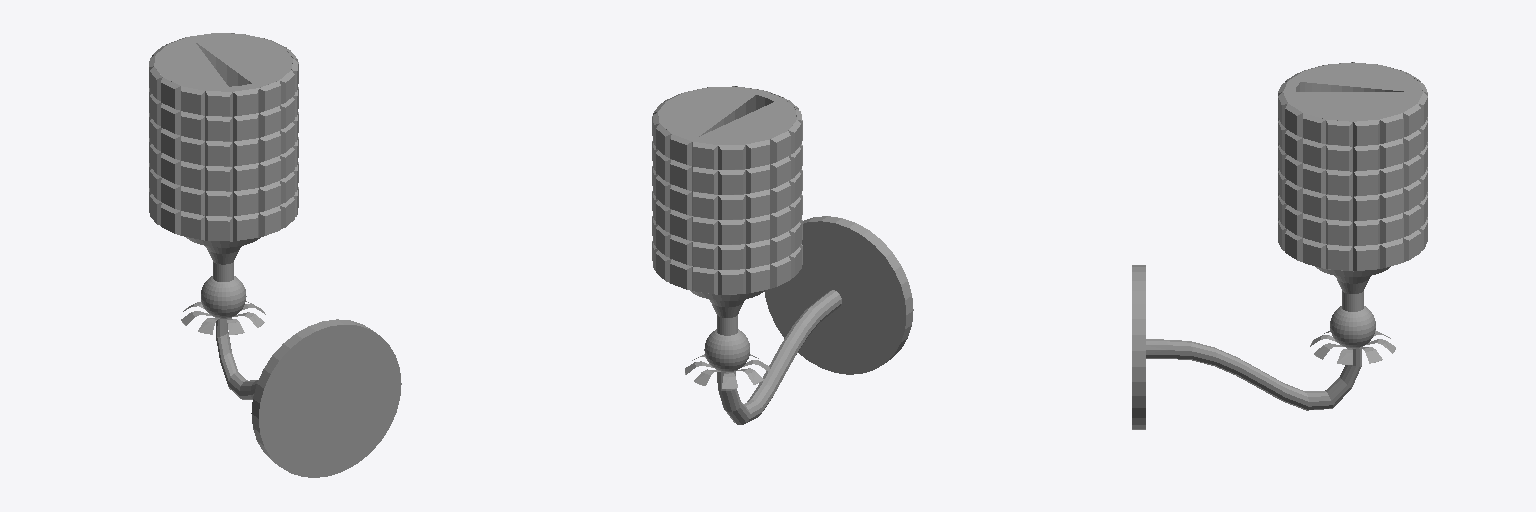
Rendered from wall_glass_lamp.obj.
3 views of the same model, side by side, from view 1: azimuth 30°, elevation 25°; view 2: azimuth 150°, elevation 25°; view 3: azimuth 270°, elevation 25° (orthographic).
Visible parts, largest first — view 1: Sphere.001; view 2: Sphere.001; view 3: Sphere.001.
Part boxes in pixels (x1,y1,x2,y2): Sphere.001: (149,33,401,477); Sphere.001: (652,86,913,424); Sphere.001: (1132,62,1427,429).
Bounding box in the file's own units: 0.8952 × 1.99 × 1.61.